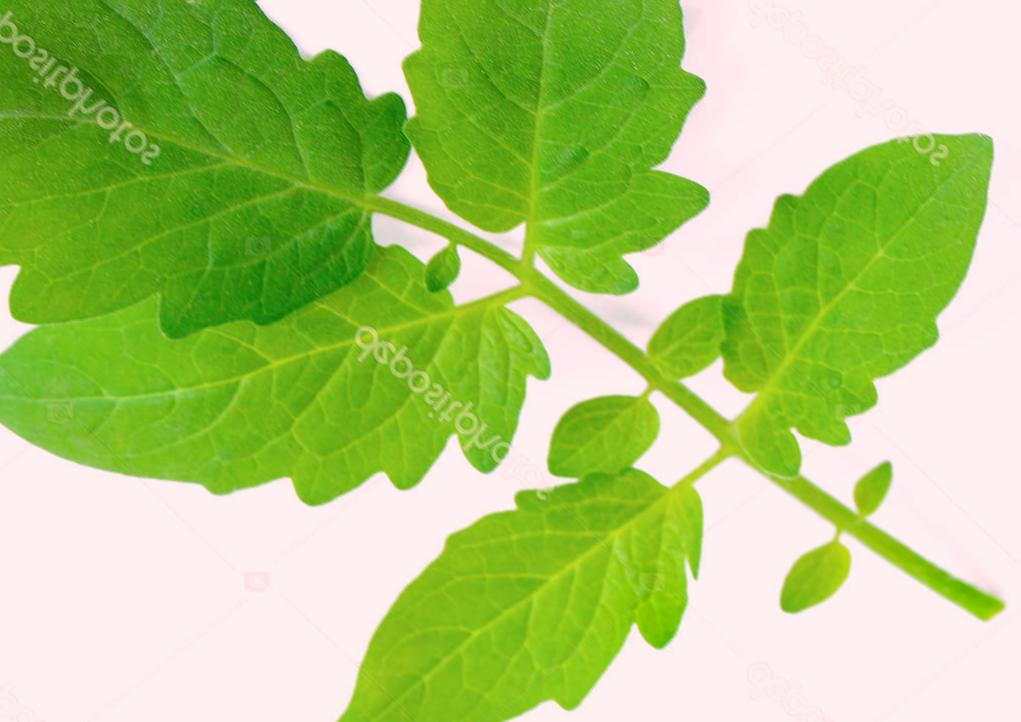Tomato leaf: (0, 214, 561, 522), (0, 0, 405, 331), (300, 444, 734, 722), (710, 105, 1021, 458), (387, 0, 719, 303)
